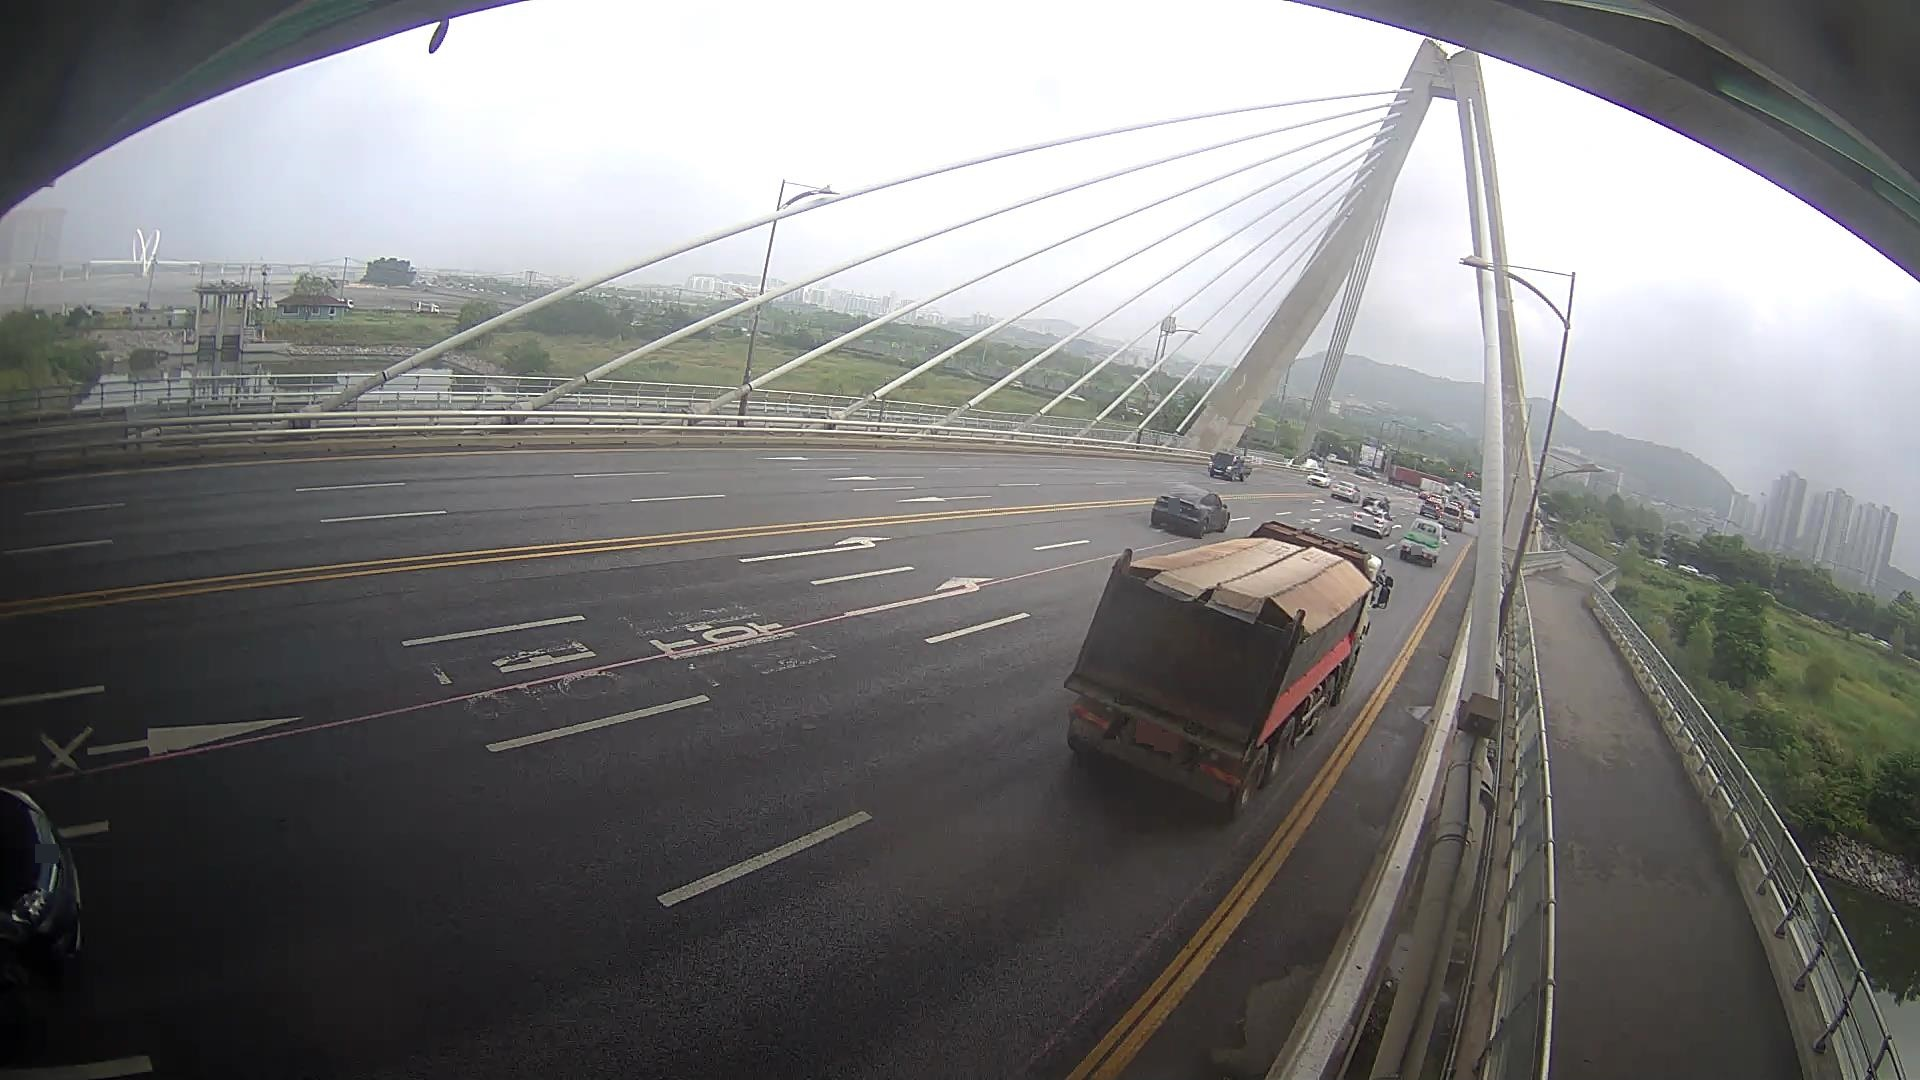정상차량: (1065, 521, 1392, 818)
